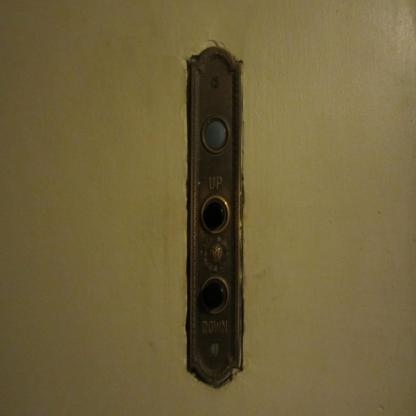empty: (198, 192, 231, 236), (200, 114, 231, 156), (199, 276, 230, 316)
